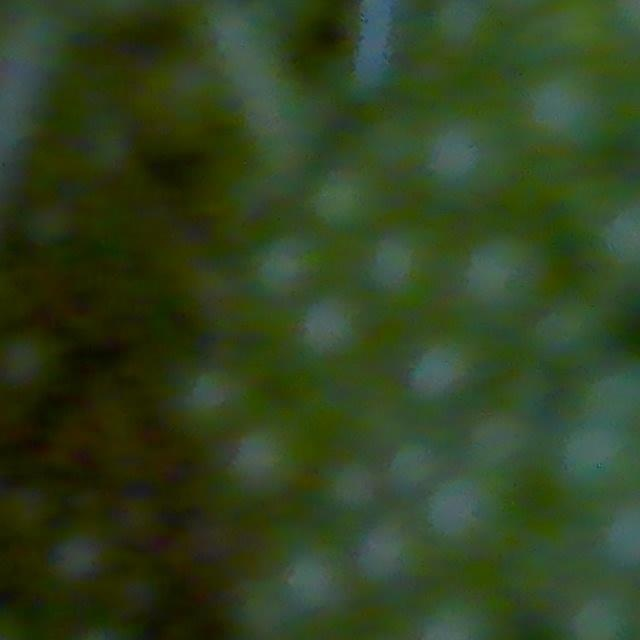SeaGrape: (408, 108, 514, 213), (455, 232, 555, 332), (522, 62, 626, 158), (422, 467, 513, 560), (355, 231, 445, 323), (555, 417, 640, 504), (288, 288, 369, 379), (403, 335, 488, 421), (268, 529, 351, 617), (243, 230, 329, 314), (528, 289, 612, 374), (228, 417, 309, 502), (167, 356, 250, 438), (347, 504, 426, 587), (463, 403, 544, 482), (537, 0, 617, 69), (309, 163, 385, 235), (422, 0, 505, 63), (564, 575, 640, 640), (357, 109, 428, 178), (46, 524, 113, 589), (222, 570, 289, 633), (0, 327, 62, 393), (323, 456, 382, 516), (385, 433, 444, 493)
